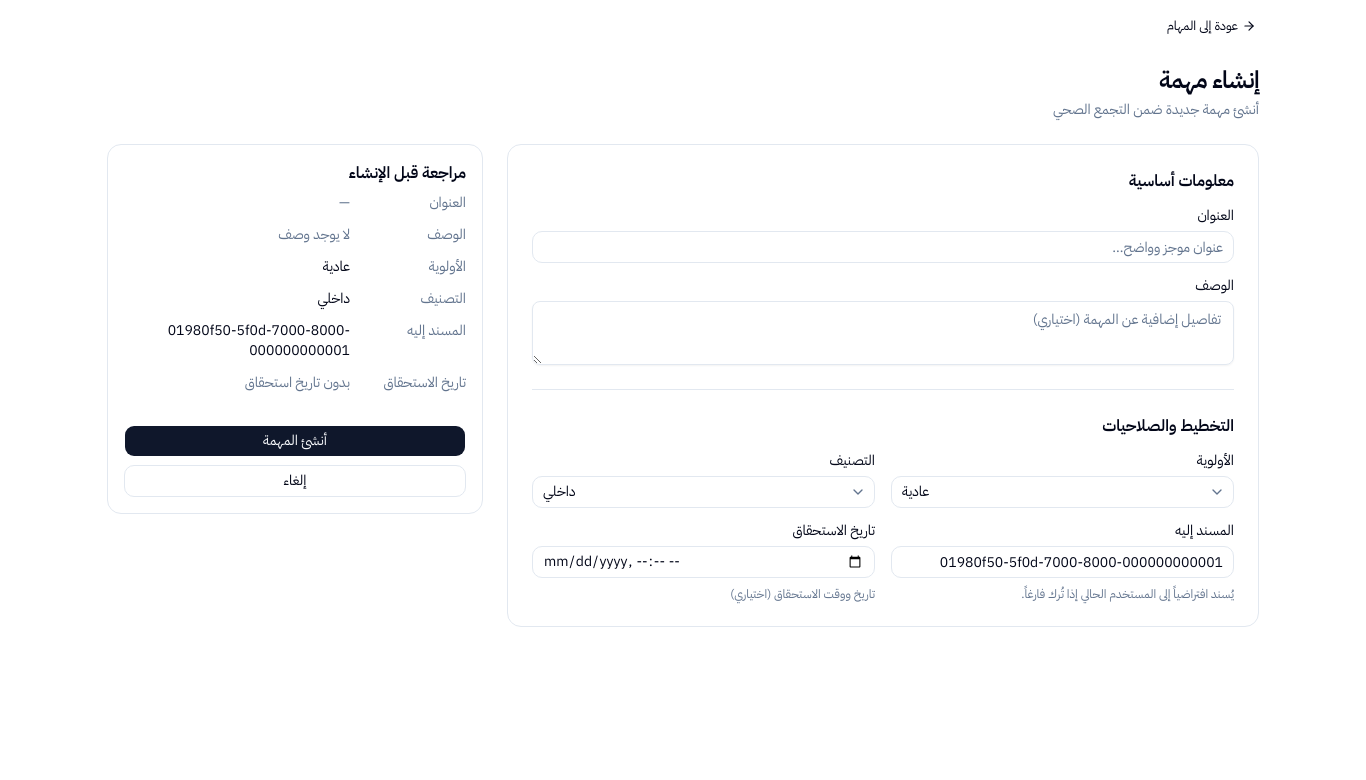
Test: TaskCreateScreen — submit, validation, and navigation › maps a 409 server error to the conflict title error
The width and height of the screenshot is (1366, 780).
Type "مهمة متعارضة" into the field labelled "العنوان" at (883, 247), box [532, 231, 1234, 263]
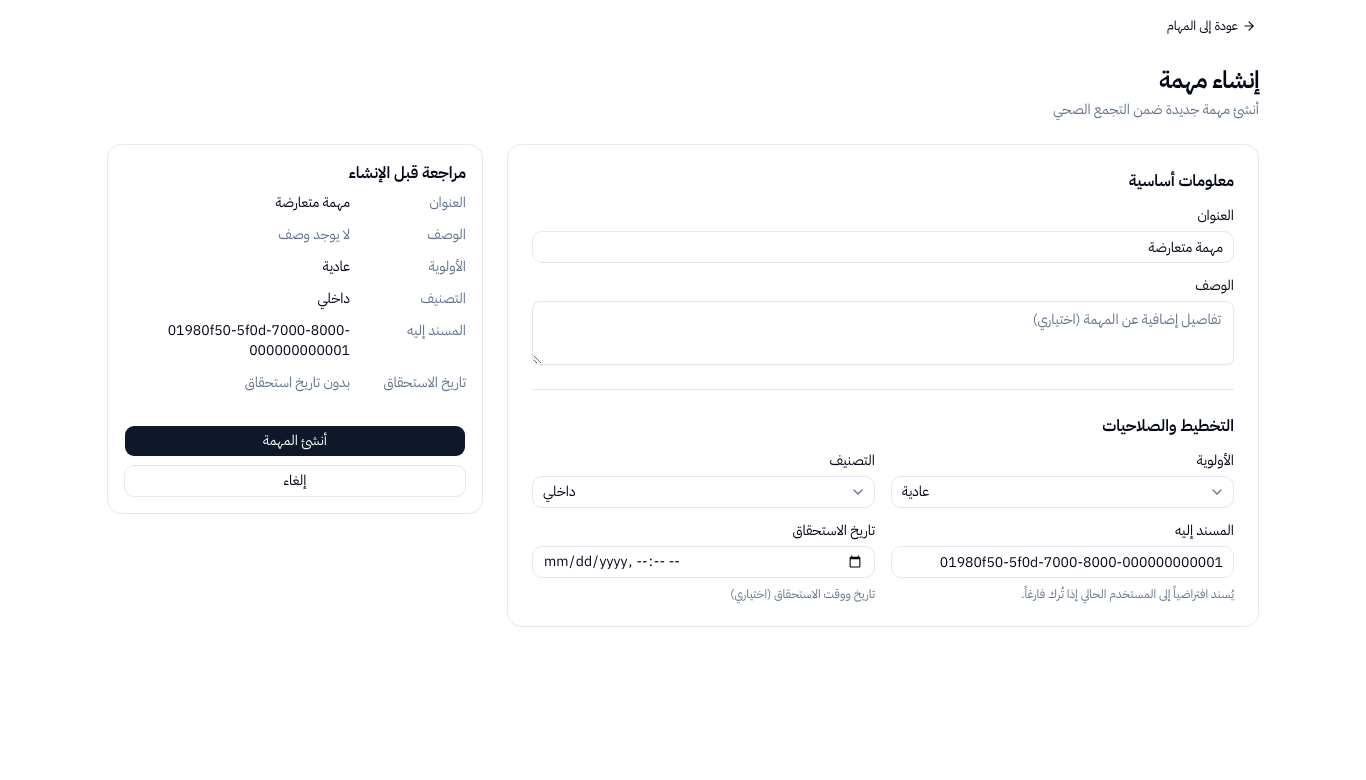
Click the button "أنشئ المهمة" at (295, 441), box [124, 425, 466, 457]
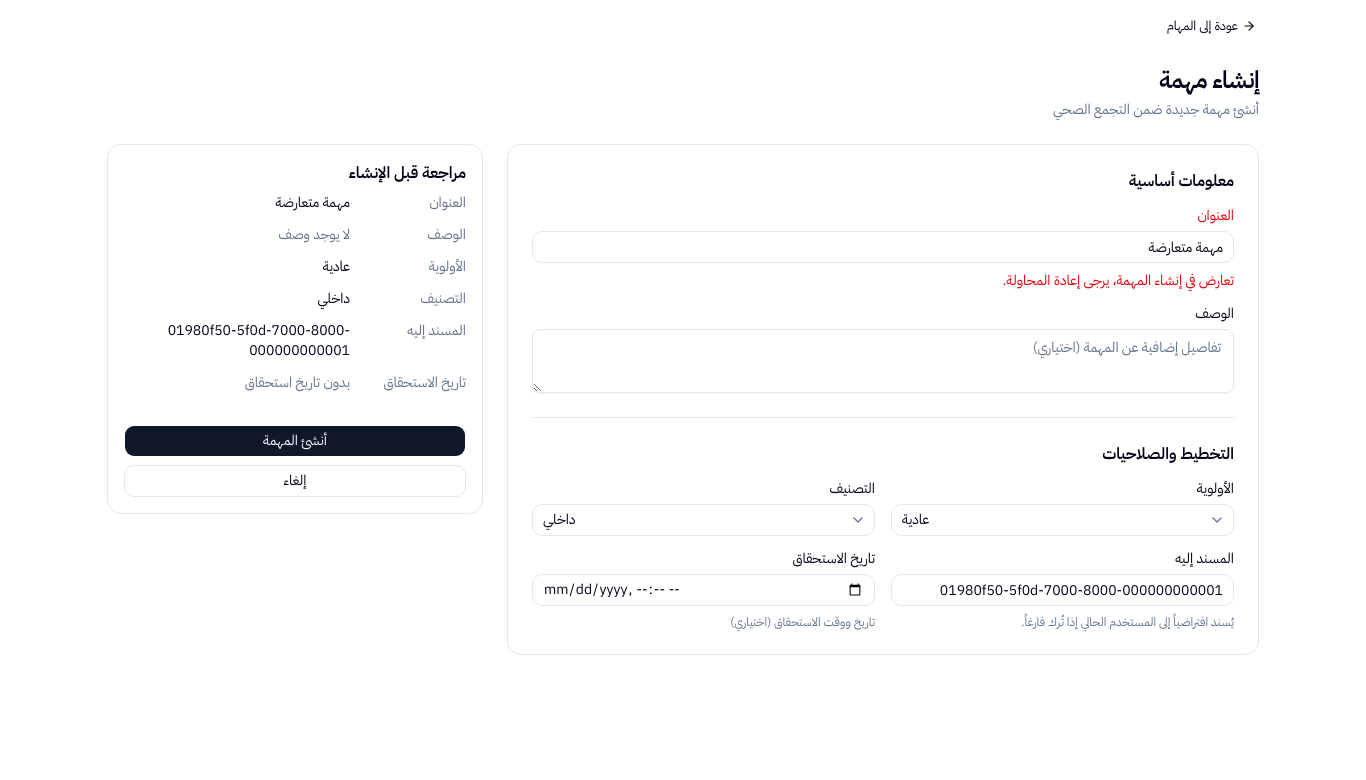
Result: the text "تعارض في إنشاء المهمة، يرجى إعادة المحاولة." is shown at [1002, 270, 1234, 291]
